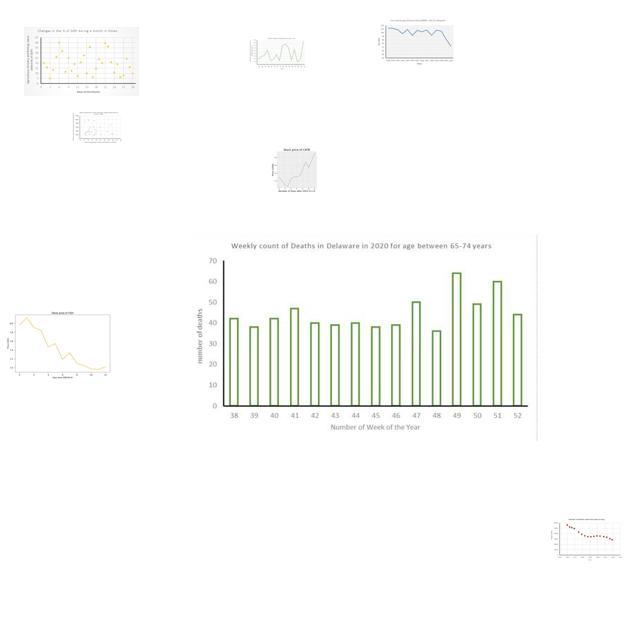Graph: (187, 235, 538, 441), (0, 301, 122, 385), (24, 27, 139, 96), (376, 19, 455, 66), (549, 517, 624, 563), (265, 146, 327, 193), (249, 37, 306, 70), (72, 110, 122, 144)
